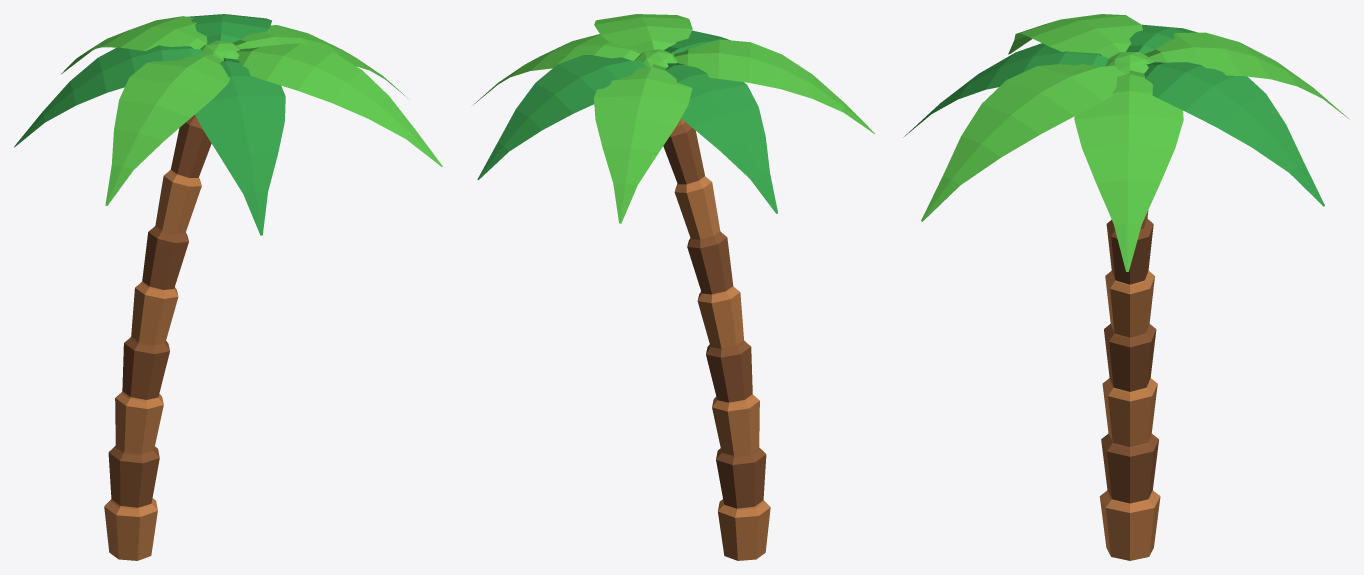
File: palm.glb
The picture shows the model from 3 angles, left to right: view 1: azimuth 30°, elevation 25°; view 2: azimuth 150°, elevation 25°; view 3: azimuth 270°, elevation 25°; orthographic projection. The views are drawn at different scales.
Parts seen in each view (by area): view 1: palm; view 2: palm; view 3: palm.
Boxes of the visible parts, box(x1,y1,x2,y2) form: palm: box(14, 14, 442, 560); palm: box(473, 14, 874, 560); palm: box(903, 14, 1349, 560).
Bounding box in the file's own units: 6.84 × 8.9 × 6.61.
